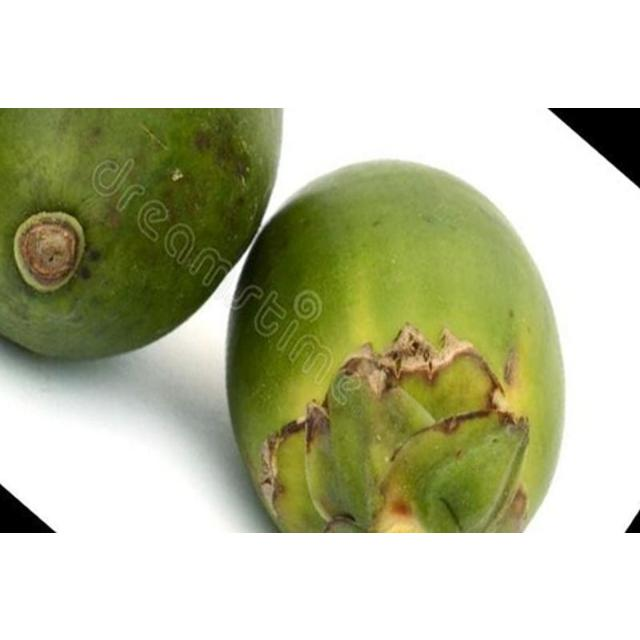good: (224, 158, 567, 532), (0, 107, 282, 361)
